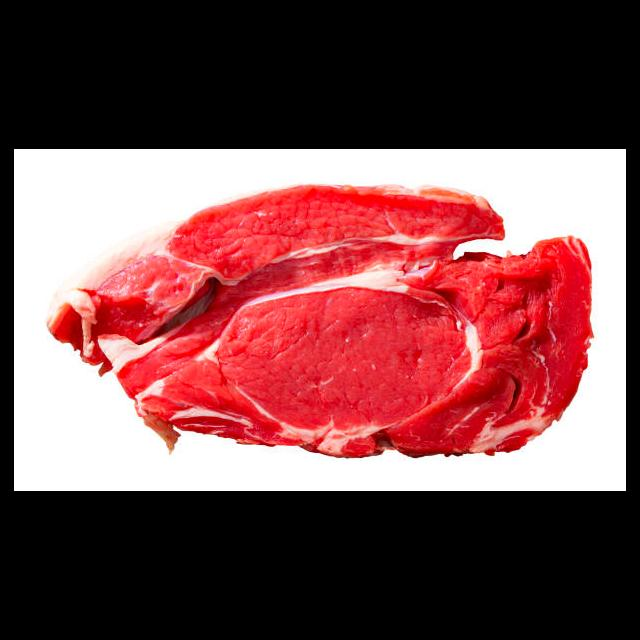beef: (45, 182, 596, 461)
